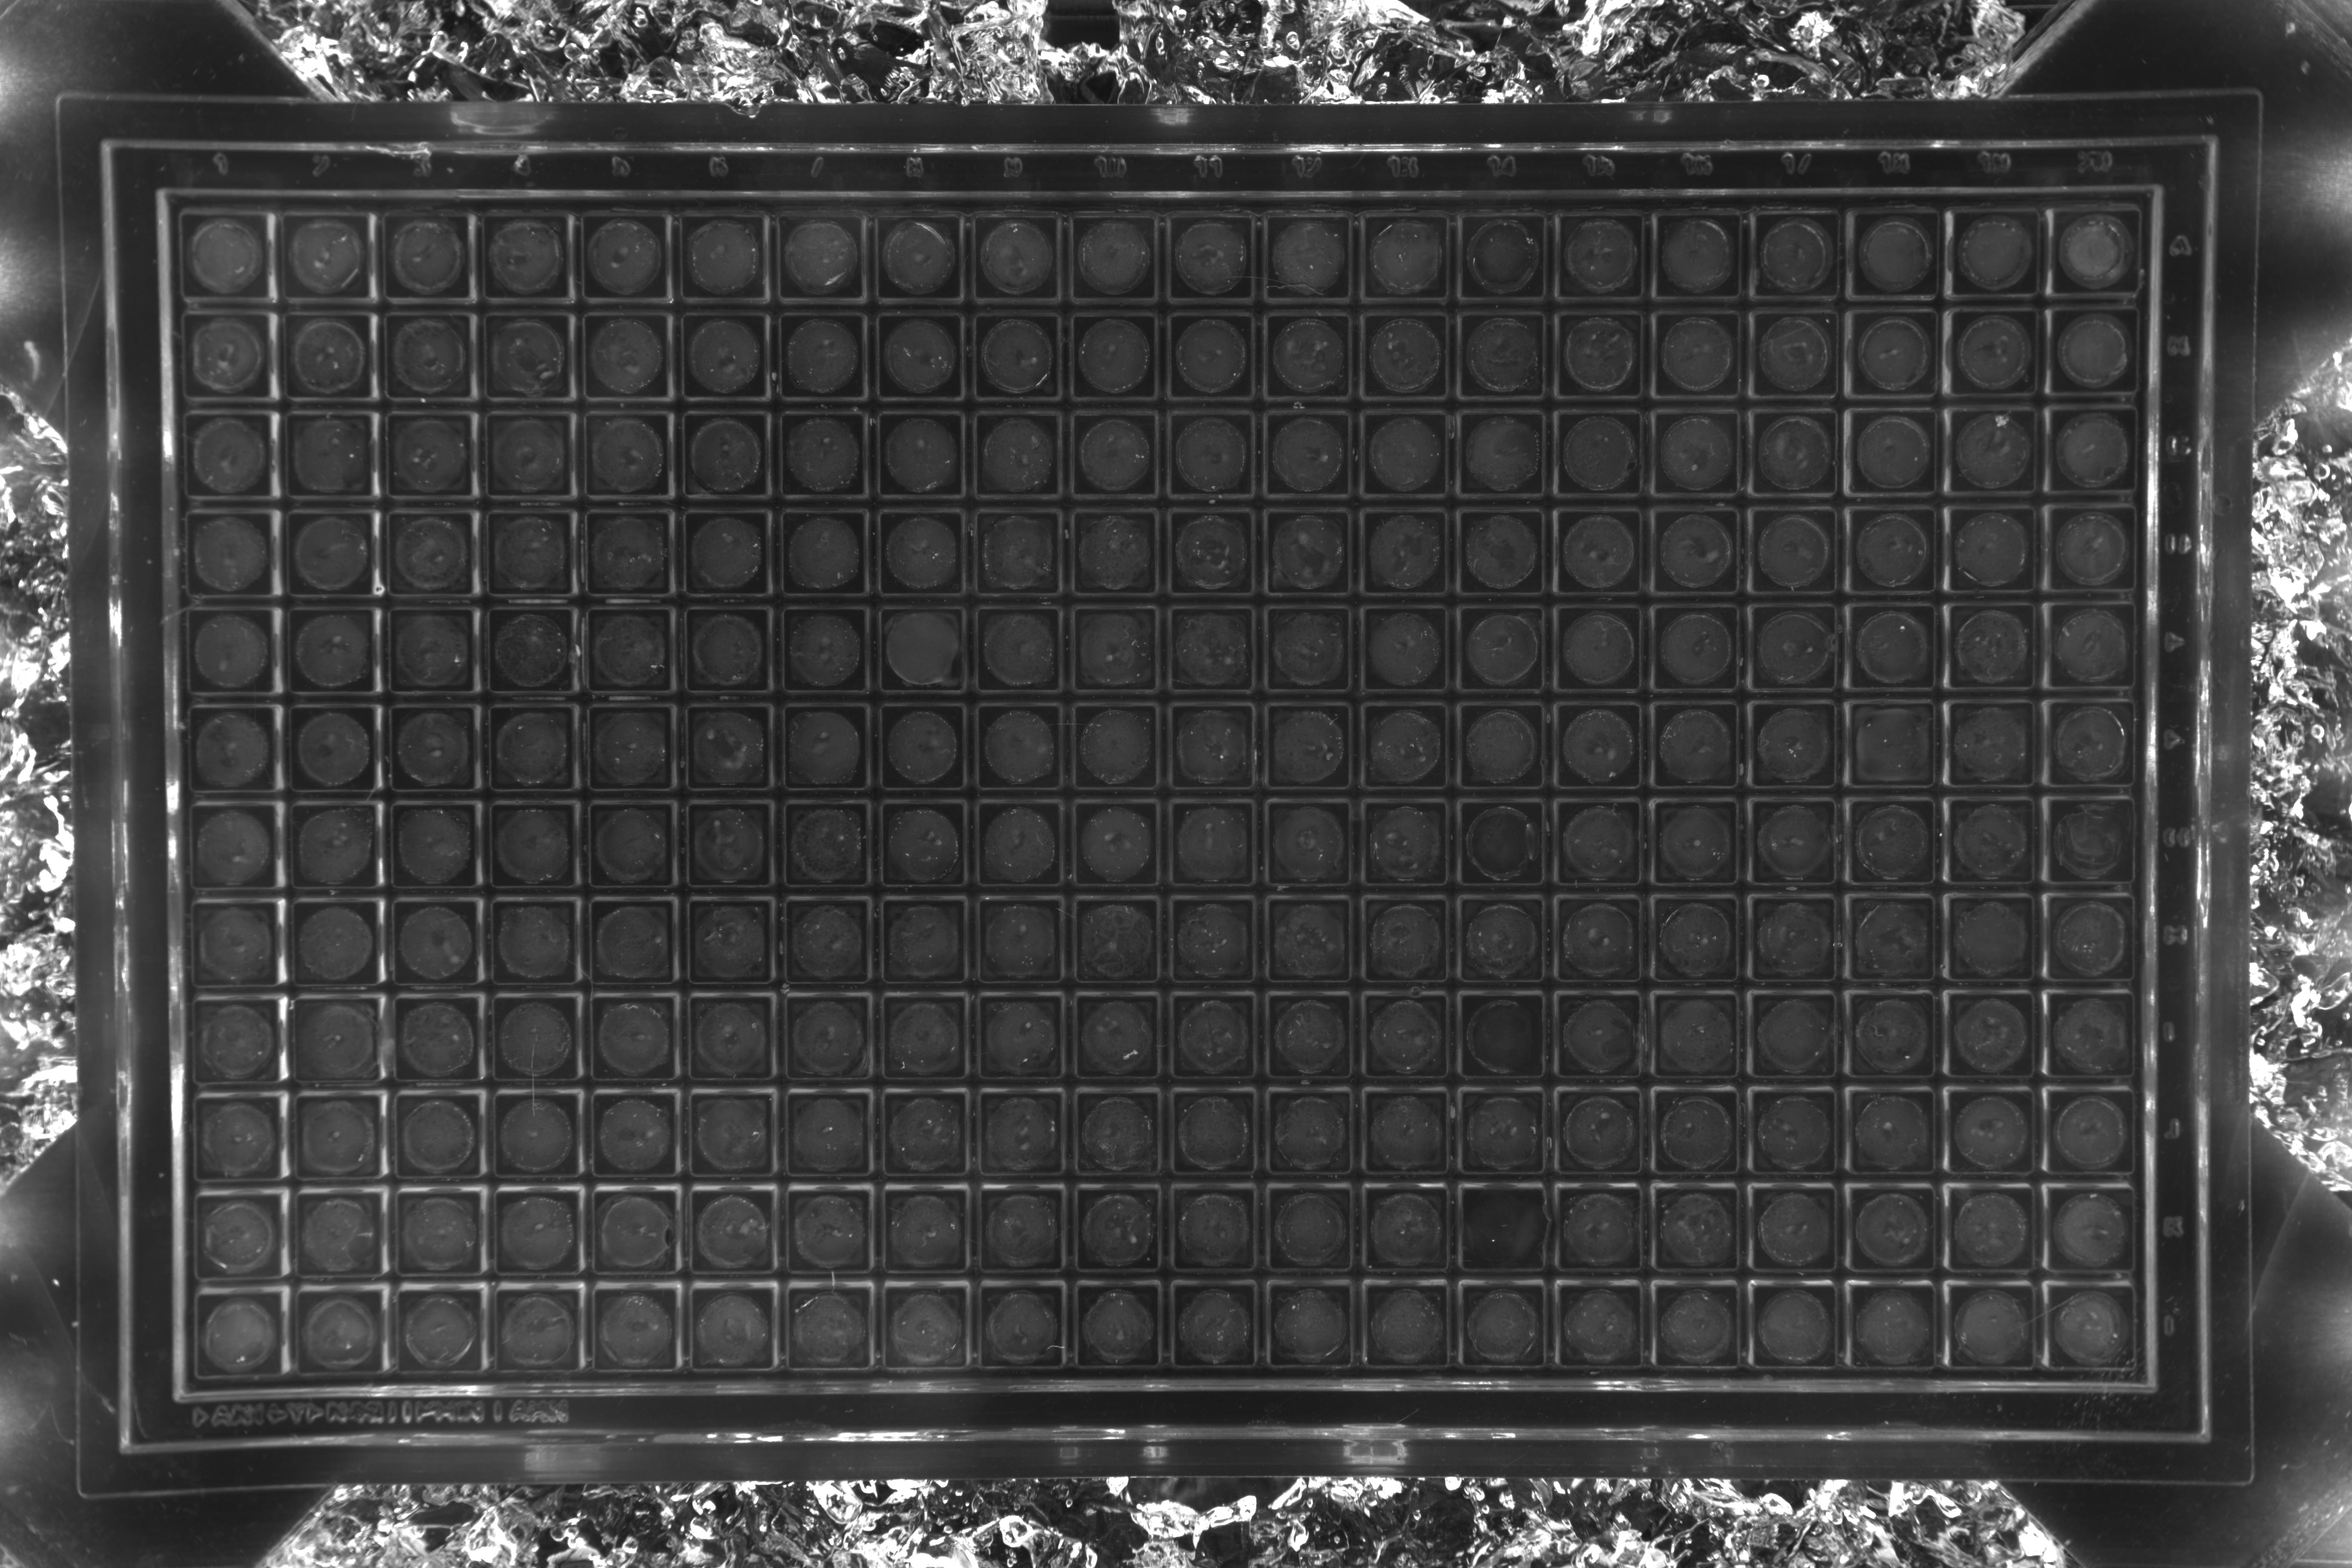WM_well: (299, 633, 388, 721), (492, 436, 581, 523), (493, 535, 583, 623), (497, 924, 586, 1011), (497, 1214, 586, 1302), (588, 338, 677, 425), (591, 534, 681, 621), (786, 436, 875, 523), (301, 731, 388, 819), (303, 1216, 390, 1304), (401, 1118, 488, 1206), (684, 142, 772, 229), (686, 240, 773, 327), (787, 534, 875, 621), (887, 1211, 975, 1298), (1274, 240, 1361, 327), (1370, 630, 1458, 717), (1568, 136, 1655, 224), (1568, 234, 1655, 322), (1857, 1115, 1944, 1202), (1962, 427, 2049, 514), (2056, 1017, 2144, 1104)
